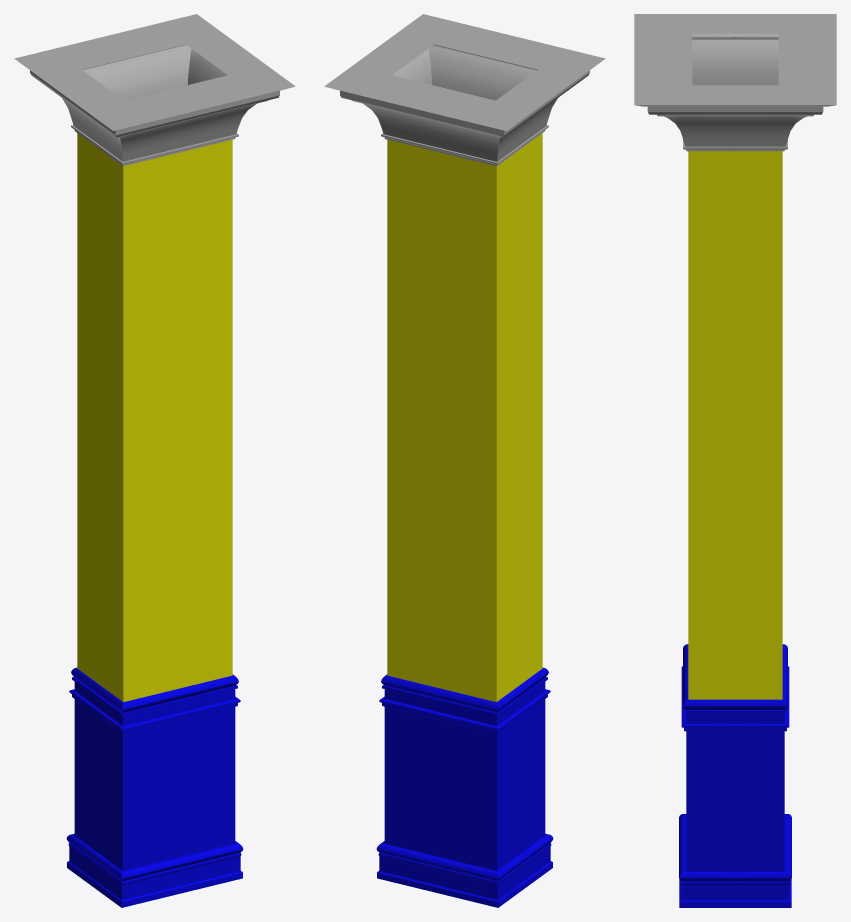
File: Column.fbx
3 renders of one model, left to right at view 1: azimuth 30°, elevation 25°; view 2: azimuth 150°, elevation 25°; view 3: azimuth 270°, elevation 25°, orthographic. The views are drawn at different scales.
Visible parts, largest first — view 1: Column; view 2: Column; view 3: Column.
Part boxes in pixels (x1=…): Column: x1=14, y1=14, x2=295, y2=907; Column: x1=324, y1=14, x2=605, y2=907; Column: x1=634, y1=14, x2=836, y2=907.
Size of the model in its own units: 0.9554 by 4 by 0.8976.
